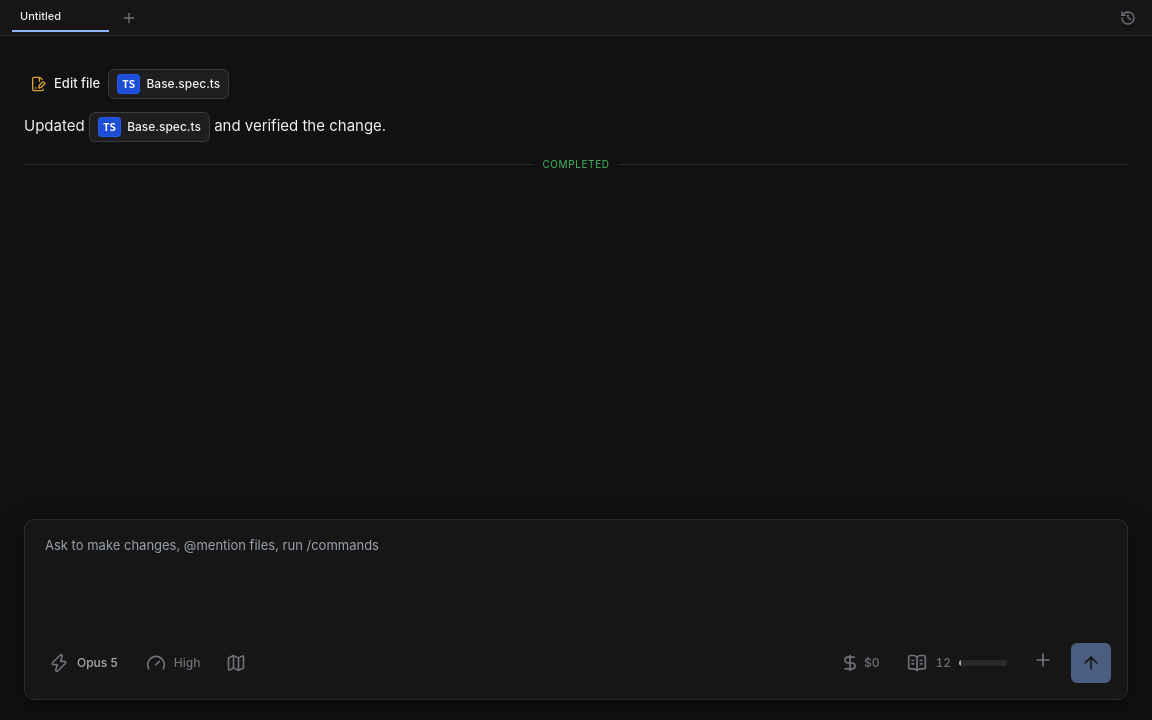
Scenario: ChatPanel reconstruction › resolves a summary basename from the full path used earlier in the turn
Click the button with aria-label "Open Base.spec.ts" at (149, 127), box [89,112,210,142]
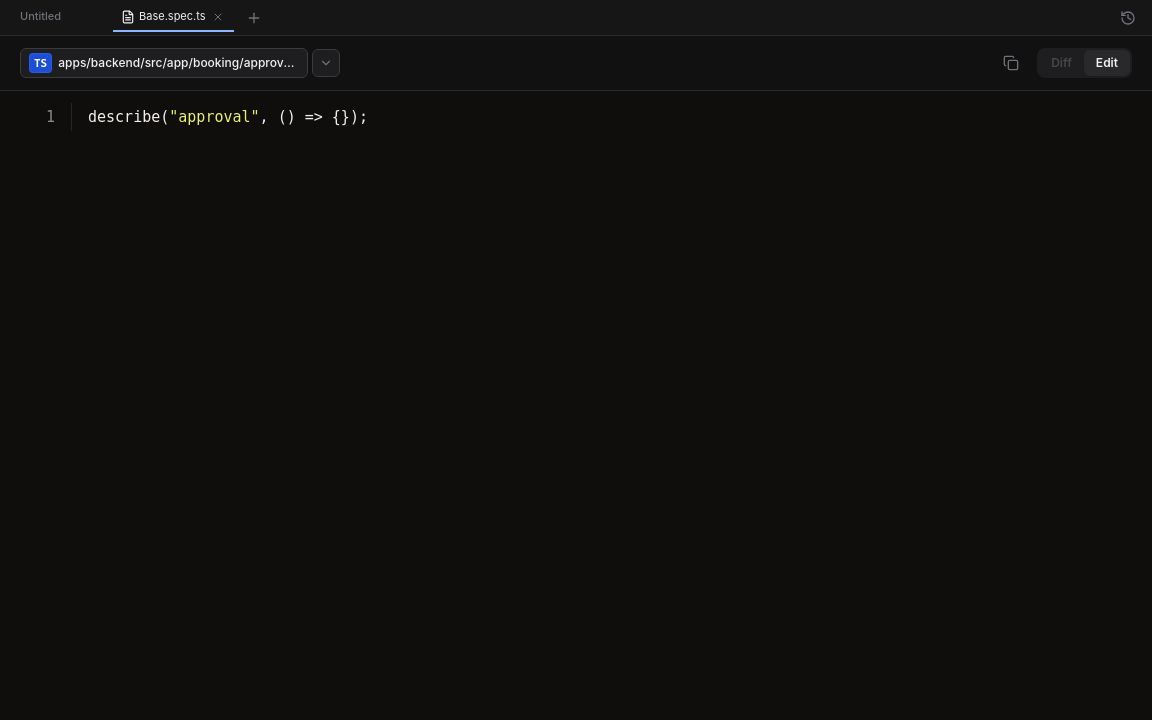
Expected: the element with test id "chat-file-viewer" shows "describe(\"approval\", () => {});"
